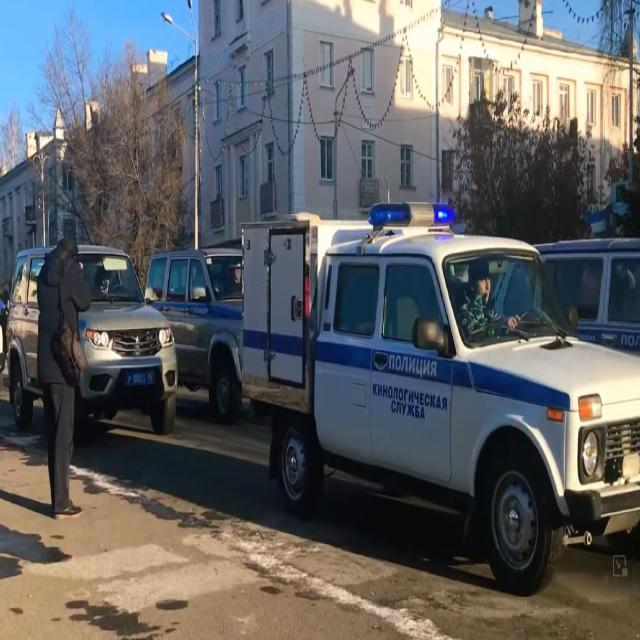police car: (241, 194, 639, 599), (8, 235, 171, 446), (147, 245, 244, 431)
